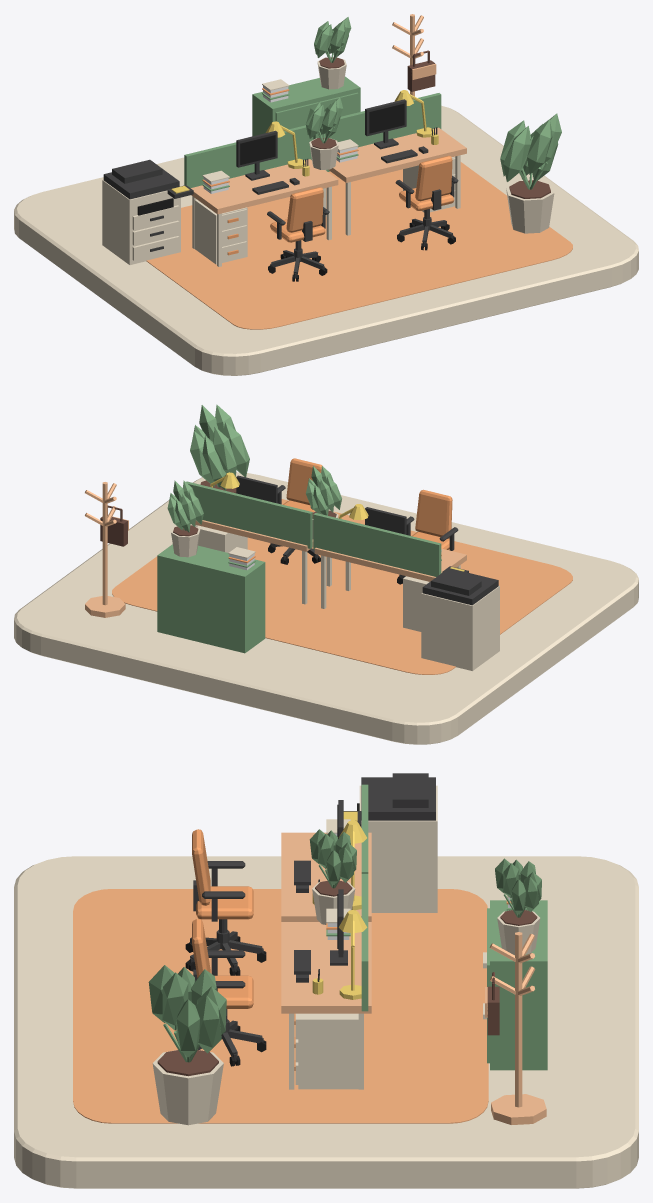
File: office.fbx
3 views of the same model, one above another, from view 1: azimuth 30°, elevation 25°; view 2: azimuth 150°, elevation 25°; view 3: azimuth 270°, elevation 25° (orthographic). The views are drawn at different scales.
Parts seen in each view (by area): view 1: AST-001-0, AST-002-0, AST-009-0, AST-010-2, AST-004-0, AST-004-1, AST-015-0, AST-003-0, AST-003-1, AST-013-0, AST-008-0, AST-013-1 (+9 smaller); view 2: AST-001-0, AST-002-0, AST-015-0, AST-009-0, AST-013-0, AST-013-1, AST-010-2, AST-003-0, AST-010-1, AST-016-0, AST-004-0, AST-003-1 (+8 smaller); view 3: AST-001-0, AST-002-0, AST-009-0, AST-010-2, AST-004-1, AST-015-0, AST-008-1, AST-003-0, AST-016-0, AST-004-0, AST-003-1, AST-010-1 (+6 smaller).
Boxes of the visible parts, box(x1,y1,x2,y2) form: AST-001-0: box(14, 105, 638, 375); AST-002-0: box(146, 162, 572, 329); AST-009-0: box(102, 159, 193, 264); AST-010-2: box(500, 113, 561, 233); AST-004-0: box(191, 159, 338, 266); AST-004-1: box(323, 127, 466, 235); AST-015-0: box(252, 76, 360, 171); AST-003-0: box(267, 187, 329, 281); AST-003-1: box(395, 155, 458, 250); AST-013-0: box(184, 125, 312, 187); AST-008-0: box(194, 199, 247, 264); AST-013-1: box(313, 93, 441, 147); AST-001-0: box(14, 472, 638, 744); AST-002-0: box(112, 499, 572, 674); AST-015-0: box(157, 544, 265, 653); AST-009-0: box(421, 566, 499, 670); AST-013-0: box(313, 513, 441, 576); AST-013-1: box(186, 481, 312, 548); AST-010-2: box(190, 404, 249, 493); AST-003-0: box(397, 489, 458, 584); AST-010-1: box(167, 480, 203, 557); AST-016-0: box(85, 482, 125, 617); AST-004-0: box(314, 547, 466, 608); AST-003-1: box(268, 458, 322, 564); AST-001-0: box(14, 856, 638, 1188); AST-002-0: box(73, 889, 488, 1123); AST-009-0: box(343, 773, 437, 912); AST-010-2: box(148, 965, 226, 1125); AST-004-1: box(281, 922, 371, 1089); AST-015-0: box(483, 900, 547, 1070); AST-008-1: box(294, 1013, 358, 1089); AST-003-0: box(185, 829, 266, 975); AST-016-0: box(489, 932, 546, 1124); AST-004-0: box(281, 832, 371, 921); AST-003-1: box(192, 918, 266, 1066); AST-010-1: box(495, 858, 541, 954).
Bounding box in the file's own units: 600 × 216 × 520.
